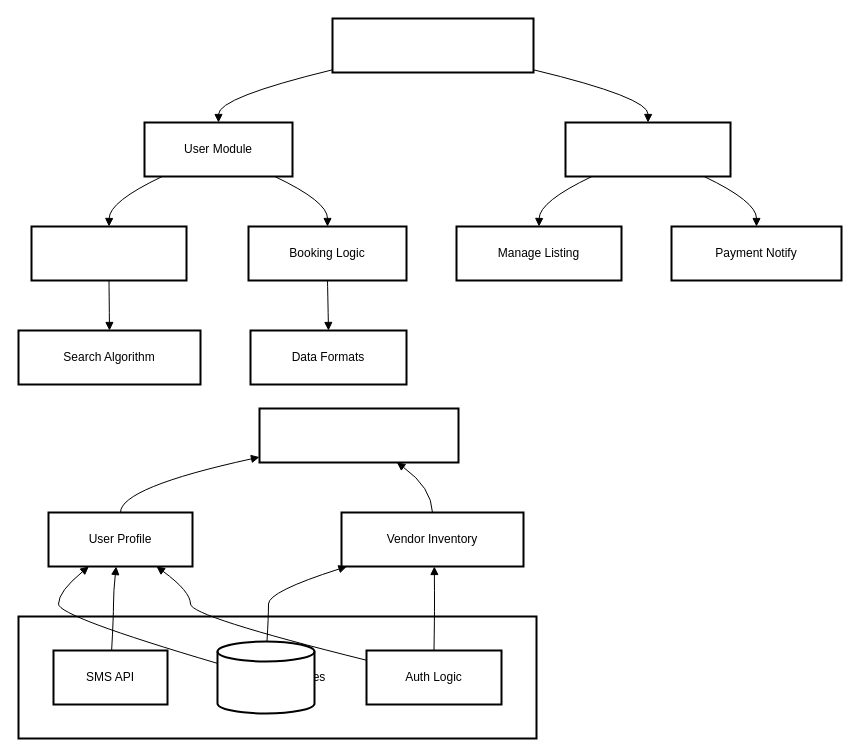
This 859x756 diagram has some shape labels left out. The box of each missing label's shape, as (x1, y1, x2, y2) in pixels:
DB Connect: (216, 640, 315, 714)
Main WedCircle App: (331, 17, 534, 73)
Search/Filter: (30, 225, 187, 281)
Vendor Module: (564, 121, 731, 177)
WedCircle Platform: (258, 407, 459, 463)
